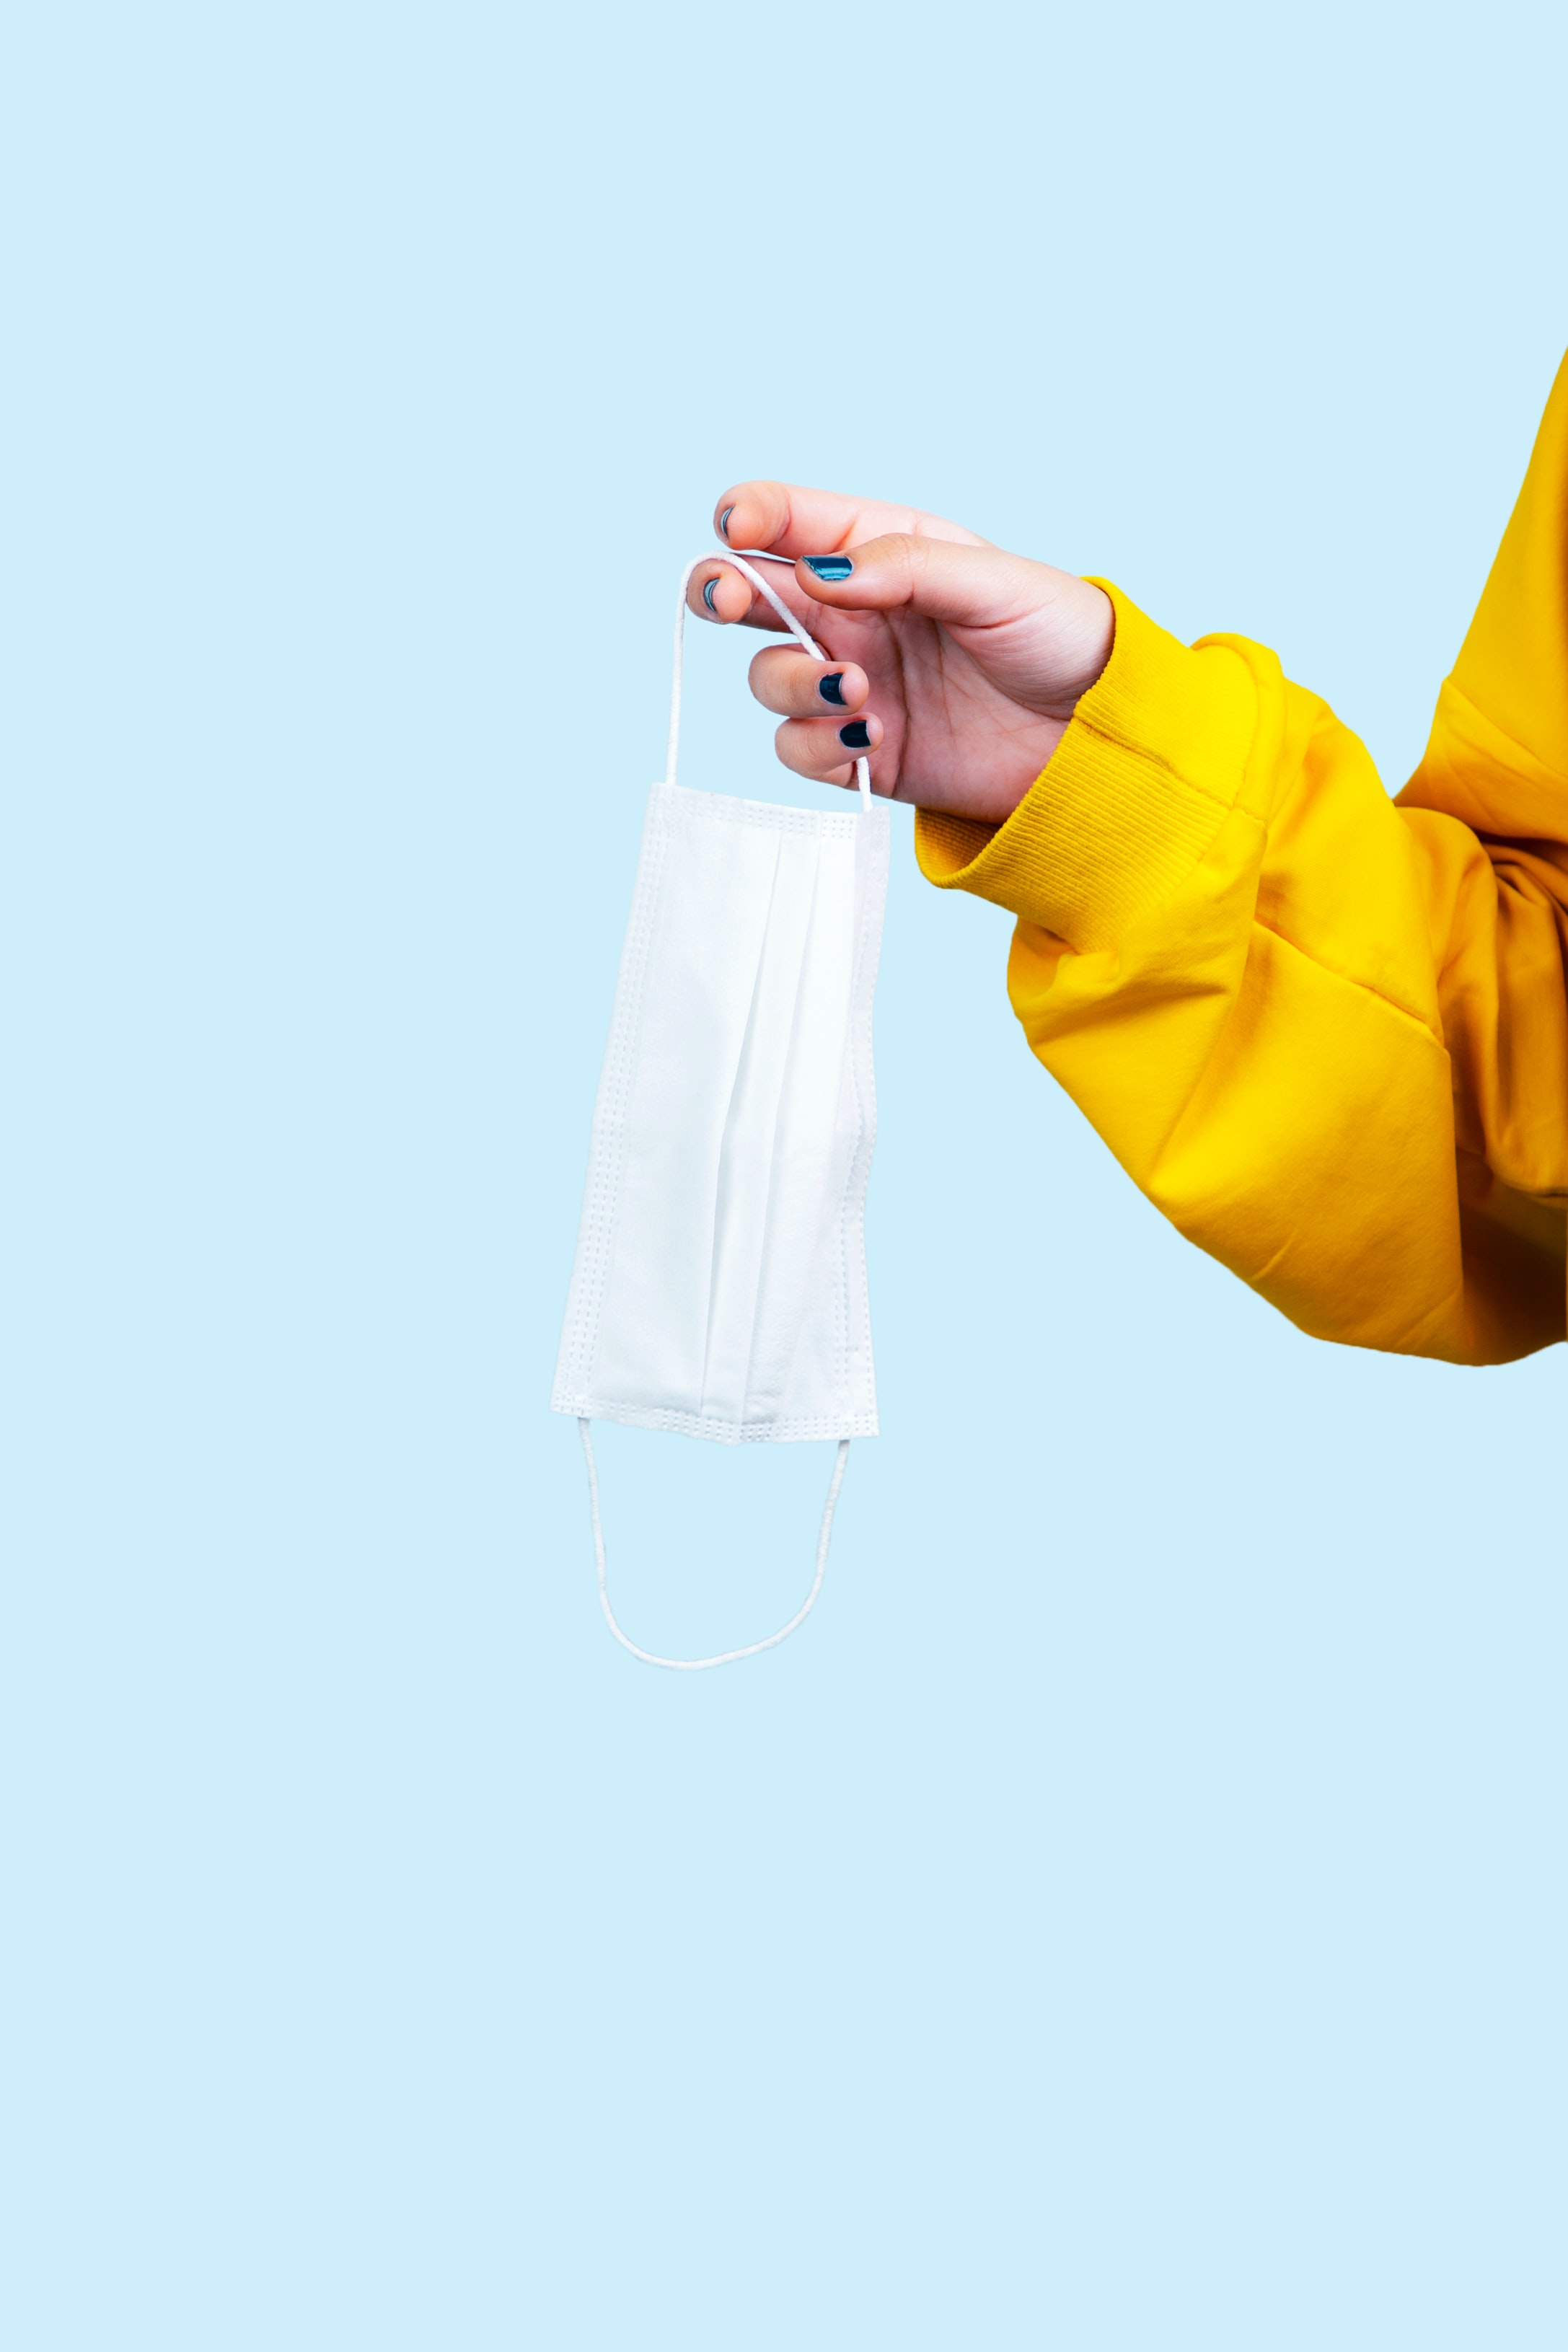mask: (525, 530, 901, 1687)
